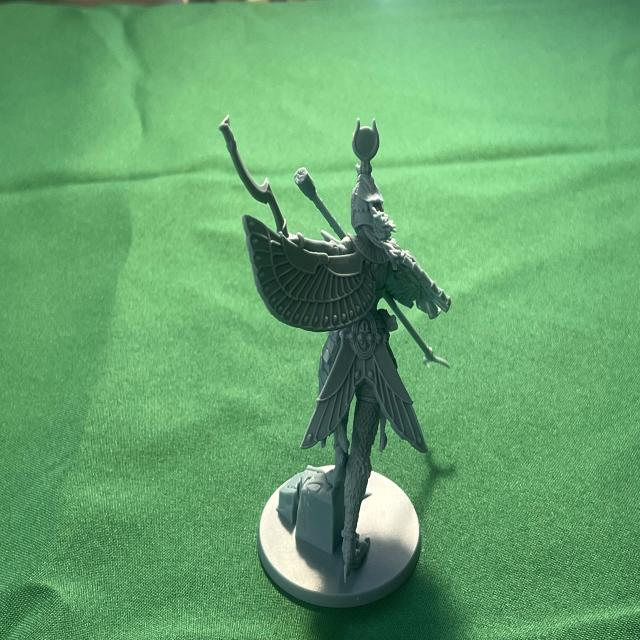isis: (214, 108, 456, 619)
